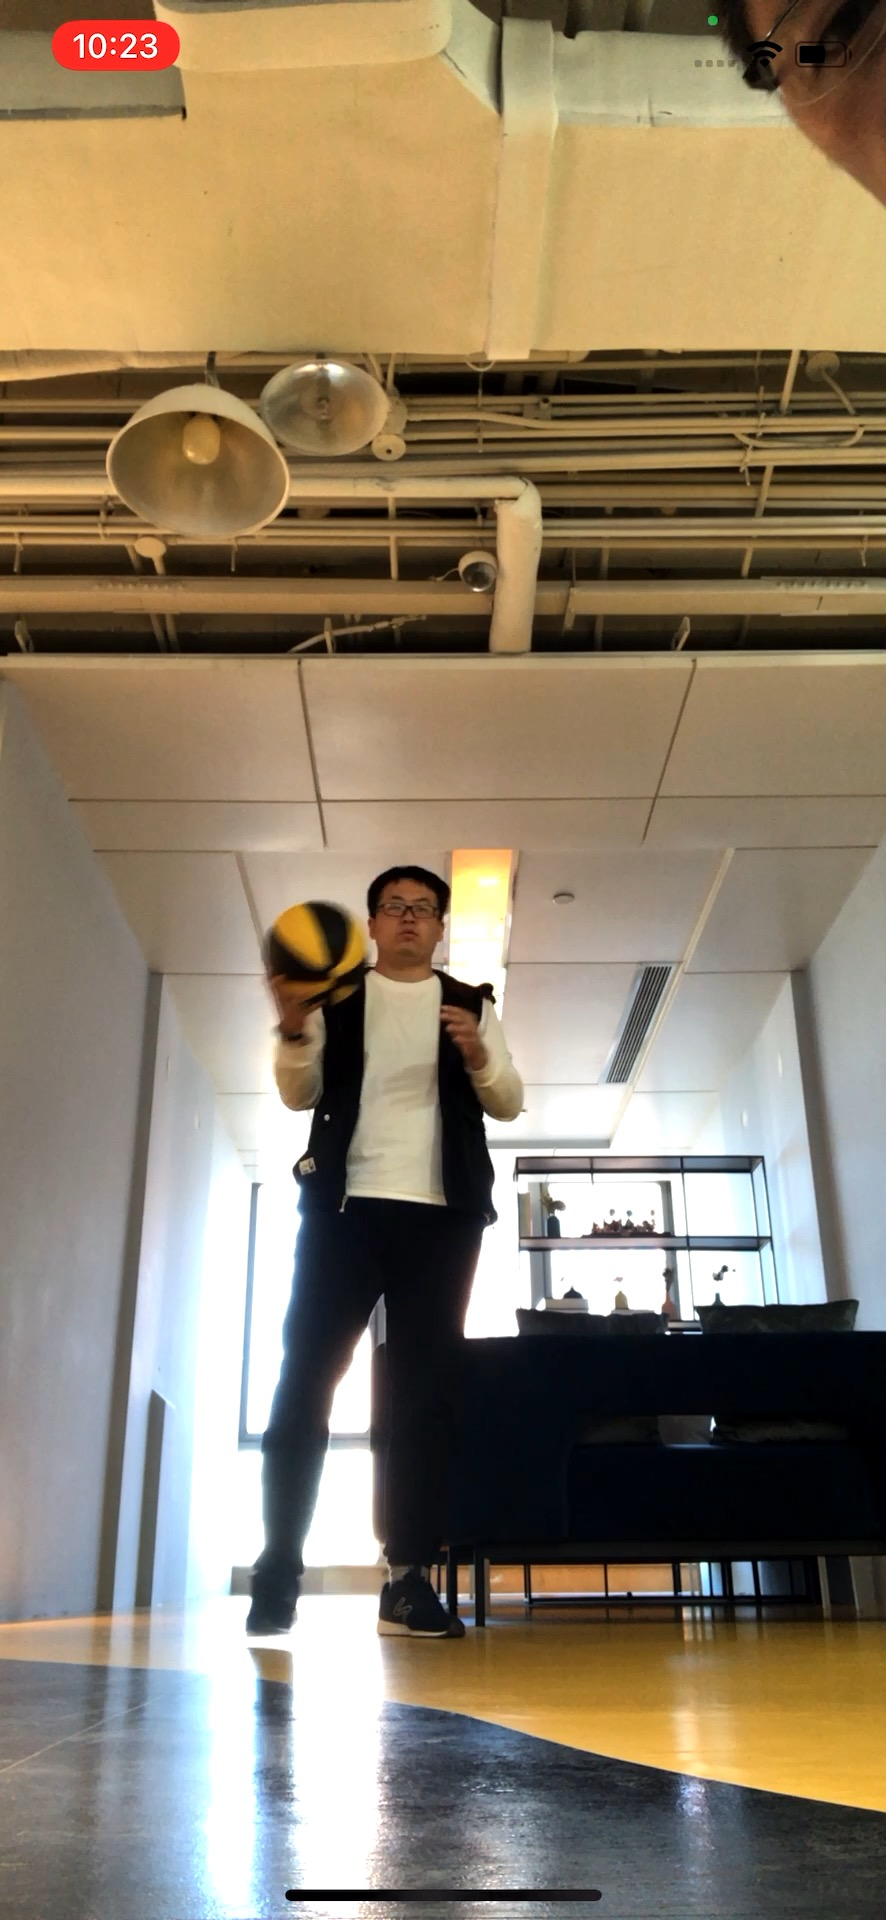ball: (267, 896, 372, 1010)
